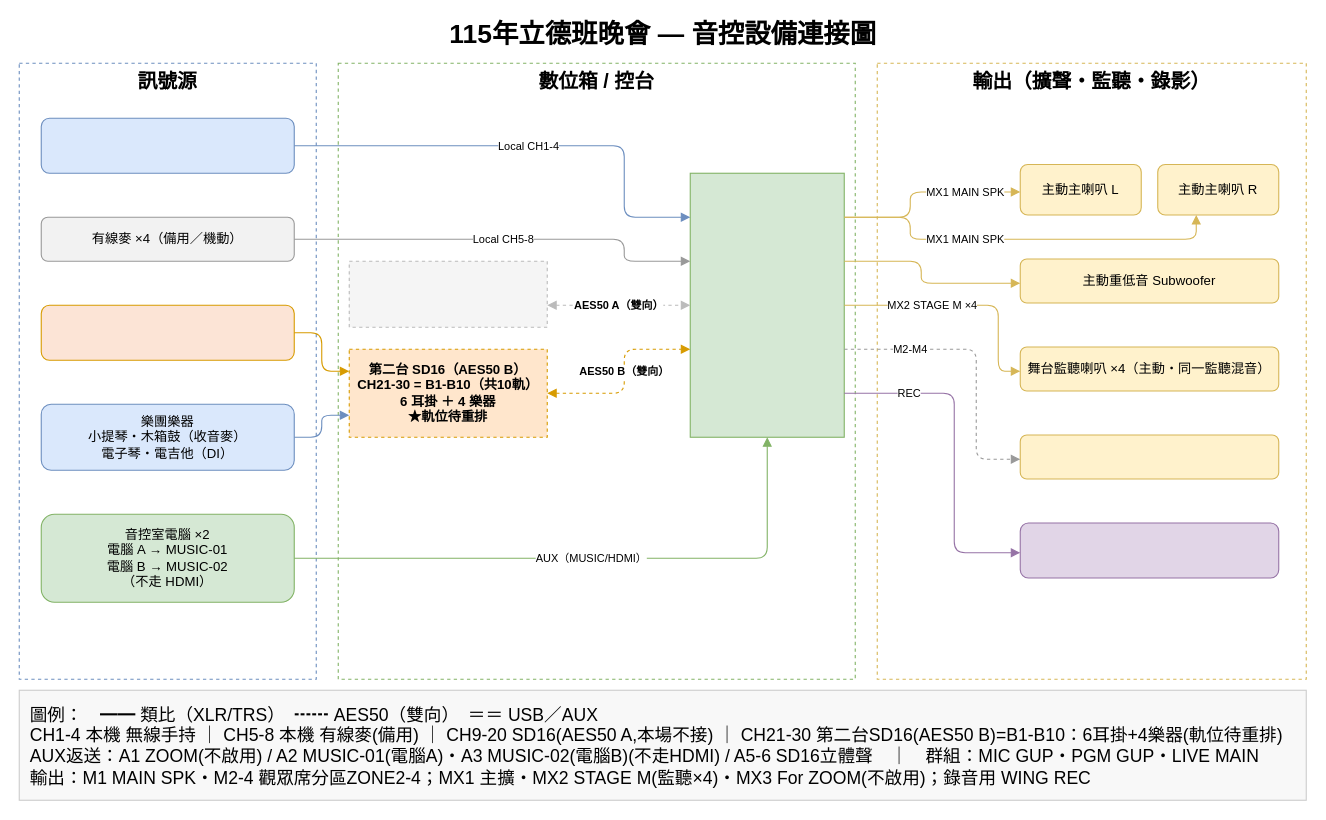
Image size: 1326x820. Some labels were removed from this diagram. Each missing label, with the box of its shape:
Behringer WING 數位混音控台 本機 8 in（CH1-8） AES50 A／B: (689, 172, 844, 437)
SD16（AES50 A）CH9-20 本場不接: (348, 260, 547, 327)
無線手持麥 ×4 主唱A／主唱B／記者／旁白: (40, 117, 294, 173)
無線耳掛麥 ×6 學長/學姐/學弟/機器人 ＋2(待定): (40, 304, 294, 360)
觀眾席分區 ZONE 2／3／4（M2-M4）: (1019, 434, 1279, 479)
錄音：WING REC（內錄）: (1019, 522, 1279, 578)
